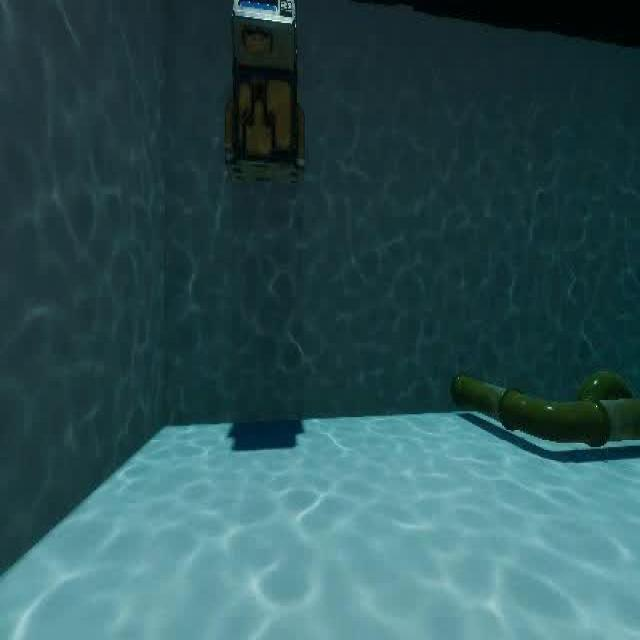Control Panel: (218, 1, 314, 194)
Pipe: (438, 347, 640, 470)
